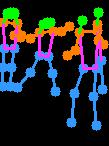normal: (20, 15, 73, 98)
